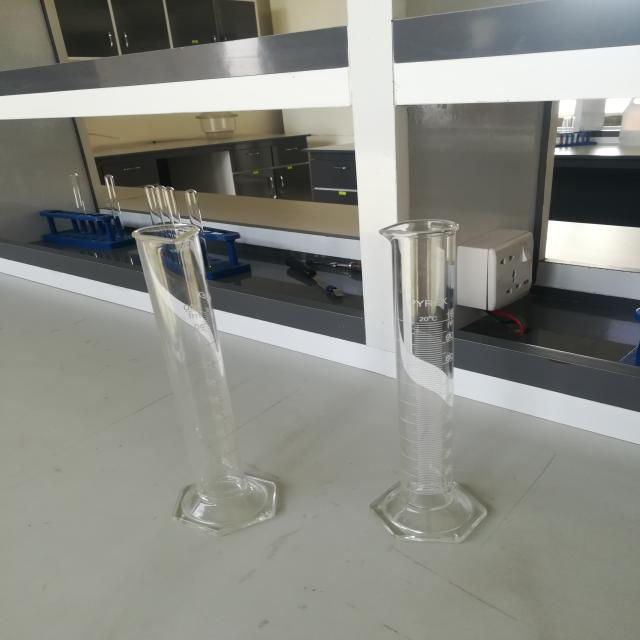Measuring_Cylinder: (100, 194, 310, 561), (332, 197, 540, 562)
